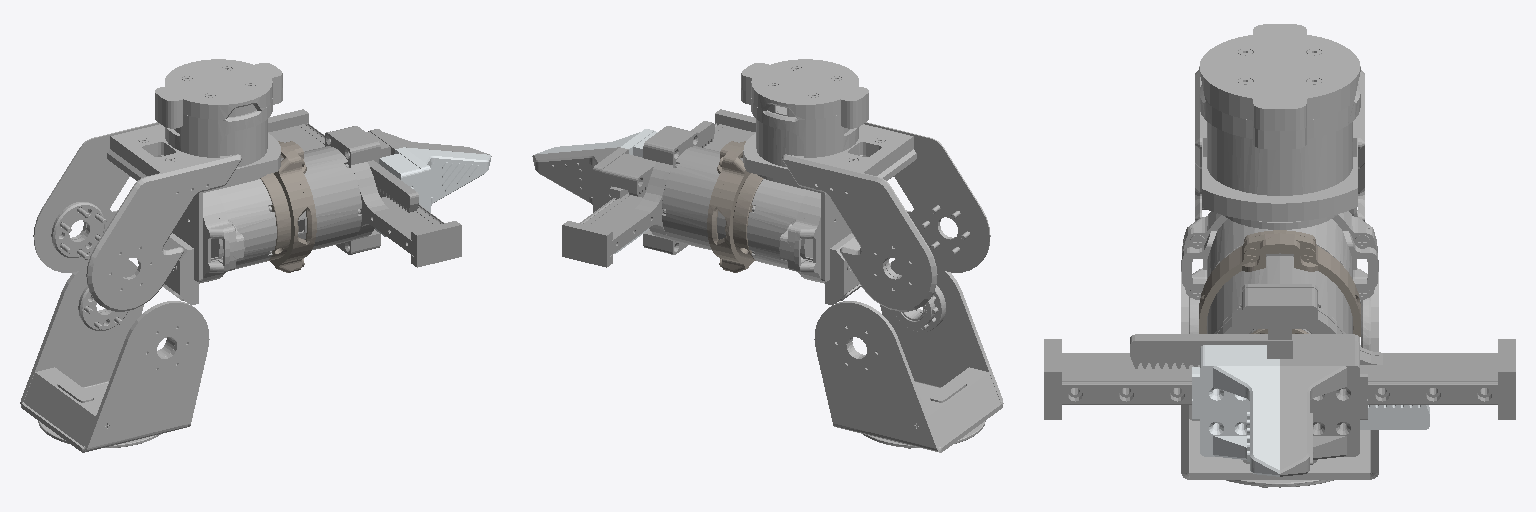
The robot description file, URDF, robot "rebot_arm_b601_dm":
<?xml version="1.0" encoding="utf-8"?>
<!-- This URDF was automatically created by SolidWorks to URDF Exporter! Originally created by Stephen Brawner (brawner@gmail.com) 
     Commit Version: 1.6.0-4-g7f85cfe  Build Version: 1.6.7995.38578
     For more information, please see http://wiki.ros.org/sw_urdf_exporter -->

<robot name="rebot_arm_b601_dm">
  <!-- ================================================================= -->
  <!--                               arm                                 -->
  <!-- ================================================================= -->

  <!-- ============================ link0 =========================== -->
  <link name="link0">
    <inertial>
      <origin xyz="-0.000007 -0.000030 0.045940" rpy="0 0 0" />
      <mass value="0.808" />
      <inertia ixx="0.001376929" ixy="0.000000066" ixz="-0.000000003" iyy="0.001095376" iyz="-0.000000538" izz="0.001367384" />
    </inertial>
    <visual>
      <origin xyz="0 0 0" rpy="0 0 0" />
      <geometry>
        <mesh filename="../meshes/link0.STL" />
      </geometry>
      <material name="">
        <color rgba="0.75294 0.75294 0.75294 1" />
      </material>
    </visual>
    <collision>
      <origin xyz="0 0 0" rpy="0 0 0" />
      <geometry>
        <mesh filename="../meshes/link0.STL" />
      </geometry>
    </collision>
  </link>

  <!-- ============================ link1 =========================== -->
  <link name="link1">
    <inertial>
      <origin xyz="0.006732 -0.002604 -0.030755" rpy="0 0 0" />
      <mass value="0.217" />
      <inertia ixx="0.000332437" ixy="0.000007515" ixz="-0.000052614" iyy="0.000237489" iyz="0.000017447" izz="0.000262793" />
    </inertial>
    <visual>
      <origin xyz="0 0 0" rpy="0 0 0" />
      <geometry>
        <mesh filename="../meshes/link1.STL" />
      </geometry>
      <material name="">
        <color rgba="0.75294 0.75294 0.75294 1" />
      </material>
    </visual>
    <collision>
      <origin xyz="0 0 0" rpy="0 0 0" />
      <geometry>
        <mesh filename="../meshes/link1.STL" />
      </geometry>
    </collision>
  </link>

  <!-- ============================ joint1 =========================== -->
  <joint name="joint1" type="revolute">
    <origin xyz="0 0 0.1402" rpy="0 0 0" />
    <parent link="link0" />
    <child link="link1" />
    <axis xyz="0 0 1" />
    <limit lower="-2.8" upper="2.8" effort="30" velocity="5" />
  </joint>

  <!-- ============================ link2 =========================== -->
  <link name="link2">
    <inertial>
      <origin xyz="0.133871 -0.001318 -0.001129" rpy="0 0 0" />
      <mass value="1.196" />
      <inertia ixx="0.000684690" ixy="-0.000003268" ixz="-0.000061685" iyy="0.017240403" iyz="0.000002921" izz="0.017039728" />
    </inertial>
    <visual>
      <origin xyz="0 0 0" rpy="0 0 0" />
      <geometry>
        <mesh filename="../meshes/link2.STL" />
      </geometry>
      <material name="">
        <color rgba="0.75294 0.75294 0.75294 1" />
      </material>
    </visual>
    <collision>
      <origin xyz="0 0 0" rpy="0 0 0" />
      <geometry>
        <mesh filename="../meshes/link2.STL" />
      </geometry>
    </collision>
  </link>

  <!-- ============================ joint2 =========================== -->
  <joint name="joint2" type="revolute">
    <origin xyz="0.02 0 0" rpy="-1.5707963267948966 0 3.141592653589793" />
    <parent link="link1" />
    <child link="link2" />
    <axis xyz="0 0 1" />
    <limit lower="-3.14" upper="0" effort="30" velocity="5" />
  </joint>

  <!-- ============================ link3 =========================== -->
  <link name="link3">
    <inertial>
      <origin xyz="0.159621 -0.015443 0.000257" rpy="0 0 0" />
      <mass value="0.799" />
      <inertia ixx="0.000845656" ixy="-0.001092298" ixz="-0.000007172" iyy="0.008275845" iyz="0.000000031" izz="0.008302930" />
    </inertial>
    <visual>
      <origin xyz="0 0 0" rpy="0 0 0" />
      <geometry>
        <mesh filename="../meshes/link3.STL" />
      </geometry>
      <material name="">
        <color rgba="0.69804 0.69804 0.69804 1" />
      </material>
    </visual>
    <collision>
      <origin xyz="0 0 0" rpy="0 0 0" />
      <geometry>
        <mesh filename="../meshes/link3.STL" />
      </geometry>
    </collision>
  </link>

  <!-- ============================ joint3 =========================== -->
  <joint name="joint3" type="revolute">
    <origin xyz="0.264 0 0" rpy="3.141592653589793 0 -2.92257466236989" />
    <parent link="link2" />
    <child link="link3" />
    <axis xyz="0 0 1" />
    <limit lower="-3.14" upper="0" effort="30" velocity="5" />
  </joint>

  <!-- ============================ link4 =========================== -->
  <link name="link4">
    <inertial>
      <origin xyz="0.062723 -0.049703 -0.000784" rpy="0 0 0" />
      <mass value="0.473" />
      <inertia ixx="0.000417026" ixy="0.000234109" ixz="0.000014853" iyy="0.000645358" iyz="-0.000013317" izz="0.000707636" />
    </inertial>
    <visual>
      <origin xyz="0 0 0" rpy="0 0 0" />
      <geometry>
        <mesh filename="../meshes/link4.STL" />
      </geometry>
      <material name="">
        <color rgba="0.75294 0.75294 0.75294 1" />
      </material>
    </visual>
    <collision>
      <origin xyz="0 0 0" rpy="0 0 0" />
      <geometry>
        <mesh filename="../meshes/link4.STL" />
      </geometry>
    </collision>
  </link>

  <!-- ============================ joint4 =========================== -->
  <joint name="joint4" type="revolute">
   <!--  <origin xyz="0.24854 0 0" rpy="0 -0.030795 0.21913" />-->
    <origin xyz="0.24853722101099 0 0" rpy="0 0 0.219017991220261" />
    <parent link="link3" />
    <child link="link4" />
    <axis xyz="0 0 1" />
    <limit lower="-1.57" upper="1.57" effort="9" velocity="8" />
  </joint>

  <!-- ============================ link5 =========================== -->
  <link name="link5">
    <inertial>
      <origin xyz="0.000770 0.001115 -0.003159" rpy="0 0 0" />
      <mass value="0.375" />
      <inertia ixx="0.000204066" ixy="-0.000000004" ixz="-0.000000037" iyy="0.000202394" iyz="-0.000005501" izz="0.000159540" />
    </inertial>
    <visual>
      <origin xyz="0 0 0" rpy="0 0 0" />
      <geometry>
        <mesh filename="../meshes/link5.STL" />
      </geometry>
      <material name="">
        <color rgba="0.75294 0.75294 0.75294 1" />
      </material>
    </visual>
    <collision>
      <origin xyz="0 0 0" rpy="0 0 0" />
      <geometry>
        <mesh filename="../meshes/link5.STL" />
      </geometry>
    </collision>
  </link>

  <!-- ============================ joint5 =========================== -->
  <joint name="joint5" type="revolute">
    <origin xyz="0.0783077451693111 0.00250000000016312 0" rpy="1.57079632679454 1.5707963267949 -3.1415926" />
    <parent link="link4" />
    <child link="link5" />
    <axis xyz="0 0 1" />
    <limit lower="-1.57" upper="1.57" effort="9" velocity="8" />
  </joint>

  <!-- ============================ link6 =========================== -->
  <link name="link6">
    <inertial>
      <origin xyz="0 0.000013 0.029727" rpy="0 0 0" />
      <mass value="0.070" />
      <inertia ixx="0.000021878" ixy="0" ixz="0" iyy="0.000017678" iyz="0.000000005" izz="0.000035131" />
    </inertial>
    <visual>
      <origin xyz="0 0 0" rpy="0 0 0" />
      <geometry>
        <mesh filename="../meshes/link6.STL" />
      </geometry>
      <material name="">
        <color rgba="0.64706 0.61961 0.58824 1" />
      </material>
    </visual>
    <collision>
      <origin xyz="0 0 0" rpy="0 0 0" />
      <geometry>
        <mesh filename="../meshes/link6.STL" />
      </geometry>
    </collision>
  </link>

  <!-- ============================ joint6 =========================== -->
  <joint name="joint6" type="revolute">
   <!-- <origin xyz="0.00076939 -1.1537E-05 0" rpy="1.5707 0 0" />-->
    <origin xyz="0 0 0" rpy="1.5707963267948966 0 0" />
    <parent link="link5" />
    <child link="link6" />
    <axis xyz="0 0 1" />
    <limit lower="-1.57" upper="1.57" effort="9" velocity="8" />
  </joint>

  <!-- ================================================================= -->
  <!--                            end-gripper                            -->
  <!-- ================================================================= -->

  <!-- ============================ link_end0 =========================== -->
  <link name="link_end0">
    <inertial>
      <origin xyz="0.038762 0.000098 0.000004" rpy="0 0 0" />
      <mass value="0.432" />
      <inertia ixx="0.000444560" ixy="0.000001261" ixz="-0.000000026" iyy="0.000259681" iyz="-0.000000837" izz="0.000548240" />
    </inertial>
    <visual>
      <origin xyz="0 0 0" rpy="0 0 0" />
      <geometry>
        <mesh filename="../meshes/link_end0.STL" />
      </geometry>
      <material name="">
        <color rgba="0.69804 0.69804 0.69804 1" />
      </material>
    </visual>
    <collision>
      <origin xyz="0 0 0" rpy="0 0 0" />
      <geometry>
        <mesh filename="../meshes/link_end0.STL" />
      </geometry>
    </collision>
  </link>

  <!-- ============================ joint_end0 =========================== -->
  <joint name="joint_end0" type="fixed">
    <origin xyz="0 0 0.0236922548306099" rpy="1.57079632679489 -1.5707963267949 0" />
    <parent link="link6" />
    <child link="link_end0" />
  </joint>

  <!-- ============================ link_end1 =========================== -->
  <link name="link_end1">
    <inertial>
      <origin xyz="0.009666 0 -0.000005" rpy="0 0 0" />
      <mass value="0.023" />
      <inertia ixx="0.000001453" ixy="0" ixz="-0.000000004" iyy="0.000001700" iyz="0" izz="0.000001701" />
    </inertial>
    <visual>
      <origin xyz="0 0 0" rpy="0 0 0" />
      <geometry>
        <mesh filename="../meshes/link_end1.STL" />
      </geometry>
      <material name="">
        <color rgba="0.64706 0.61961 0.58824 1" />
      </material>
    </visual>
    <collision>
      <origin xyz="0 0 0" rpy="0 0 0" />
      <geometry>
        <mesh filename="../meshes/link_end1.STL" />
      </geometry>
    </collision>
  </link>

  <!-- ============================ joint_end1 =========================== -->
  <joint name="joint_end1" type="revolute">
    <origin xyz="0.05749999999998 0 0" rpy="0 0 0" />
    <parent link="link_end0" />
    <child link="link_end1" />
    <axis xyz="1 0 0" />
    <limit lower="-5.49" upper="0" effort="1.5" velocity="8" />
  </joint>

  <!-- ============================ link_end_fingerright =========================== -->
  <link name="link_end_fingerright">
    <inertial>
      <origin xyz="-0.005907 -0.011609 -0.002754" rpy="0 0 0" />
      <mass value="0.085" />
      <inertia ixx="0.000037044" ixy="0.000003980" ixz="-0.000003378" iyy="0.000024399" iyz="0.000005275" izz="0.000042504" />
    </inertial>
    <visual>
      <origin xyz="0 0 0" rpy="0 0 0" />
      <geometry>
        <mesh filename="../meshes/link_end_fingerright.STL" />
      </geometry>
      <material name="">
        <color rgba="0.89804 0.91765 0.92941 1" />
      </material>
    </visual>
    <collision>
      <origin xyz="0 0 0" rpy="0 0 0" />
      <geometry>
        <mesh filename="../meshes/link_end_fingerright.STL" />
      </geometry>
    </collision>
  </link>

  <!-- ============================ joint_end_fingerright =========================== -->
  <joint name="joint_end_fingerright" type="prismatic">
    <origin xyz="0.0949 0 -1.2977E-05" rpy="0 0 0" />
    <parent link="link_end0" />
    <child link="link_end_fingerright" />
    <axis xyz="0 1 -0.00014746" />
    <limit lower="-0.04625" upper="0" effort="178.15" velocity="0.06736" />
    <mimic joint="joint_end1" multiplier="0.00842" offset="0" />
  </joint>

  <!-- ============================ link_end_fingerleft =========================== -->
  <link name="link_end_fingerleft">
    <inertial>
      <origin xyz="-0.005907 0.011609 0.002754" rpy="0 0 0" />
      <mass value="0.085" />
      <inertia ixx="0.000037044" ixy="-0.000003980" ixz="0.000003378" iyy="0.000024399" iyz="0.000005275" izz="0.000042504" />
    </inertial>
    <visual>
      <origin xyz="0 0 0" rpy="0 0 0" />
      <geometry>
        <mesh filename="../meshes/link_end_fingerleft.STL" />
      </geometry>
      <material name="">
        <color rgba="0.69804 0.69804 0.69804 1" />
      </material>
    </visual>
    <collision>
      <origin xyz="0 0 0" rpy="0 0 0" />
      <geometry>
        <mesh filename="../meshes/link_end_fingerleft.STL" />
      </geometry>
    </collision>
  </link>

  <!-- ============================ joint_end_fingerleft =========================== -->
  <joint name="joint_end_fingerleft" type="prismatic">
    <origin xyz="0.0949 0 -1.2977E-05" rpy="0 0 0" />
    <parent link="link_end0" />
    <child link="link_end_fingerleft" />
    <axis xyz="0 -1 0.00014746" />
    <limit lower="-0.04625" upper="0" effort="178.15" velocity="0.06736" />
    <mimic joint="joint_end1" multiplier="0.00842" offset="0" />
  </joint>

  <!-- ==================== frame_end_tcp / joint_frame_end_tcp ==================== -->
  <link name="frame_end_tcp" />
  <joint name="joint_frame_end_tcp" type="fixed">
    <origin xyz="0.117620014536282 0 0" rpy="0 0 0" />
    <parent link="link_end0" />
    <child link="frame_end_tcp" />
  </joint>

  <!-- ================ frame_end_fingertip / joint_frame_end_fingertip ============= -->
  <link name="frame_end_fingertip" />
  <joint name="joint_frame_end_fingertip" type="fixed">
    <origin xyz="0.159710014536282 0 0" rpy="0 0 0" />
    <parent link="link_end0" />
    <child link="frame_end_fingertip" />
  </joint>
</robot>

--- What the picture shows (computed from the rendered views, not written in the file) ---
The picture shows the robot from 3 angles, left to right: view 1: azimuth 30°, elevation 25°; view 2: azimuth 150°, elevation 25°; view 3: azimuth 270°, elevation 25°; orthographic projection.
Model rebot_arm_b601_dm with 13 links and 12 joints (7 revolute, 2 prismatic, 3 fixed), rooted at link0, posed every joint at zero.
Links seen in each view (by area): view 1: link4, link1, link_end0, link5, link6, link_end_fingerright, link_end_fingerleft; view 2: link4, link1, link_end0, link5, link_end_fingerleft, link6, link_end_fingerright; view 3: link4, link_end0, link_end_fingerleft, link_end_fingerright, link5, link1, link6.
Link boxes in pixels (bbox=[...]): link4: bbox=[33, 59, 282, 311]; link1: bbox=[20, 259, 209, 452]; link_end0: bbox=[268, 109, 461, 267]; link5: bbox=[162, 175, 276, 305]; link6: bbox=[260, 141, 316, 272]; link_end_fingerright: bbox=[375, 147, 490, 236]; link_end_fingerleft: bbox=[366, 129, 491, 212]; link4: bbox=[741, 59, 990, 311]; link1: bbox=[814, 259, 1003, 452]; link_end0: bbox=[562, 109, 755, 267]; link5: bbox=[747, 175, 861, 305]; link_end_fingerleft: bbox=[533, 121, 714, 212]; link6: bbox=[707, 141, 763, 272]; link_end_fingerright: bbox=[532, 129, 657, 253]; link4: bbox=[1195, 24, 1364, 221]; link_end0: bbox=[1044, 253, 1515, 463]; link_end_fingerleft: bbox=[1130, 334, 1367, 476]; link_end_fingerright: bbox=[1192, 345, 1429, 476]; link5: bbox=[1181, 211, 1378, 299]; link1: bbox=[1181, 272, 1378, 487]; link6: bbox=[1199, 230, 1360, 336].
Size in the robot's own frame: 0.2988 by 0.1841 by 0.212 metres.
8 mesh visuals loaded from 11 distinct referenced files (8 binary STL); not drawn: 3 (reference not matched to a file when rendering).
